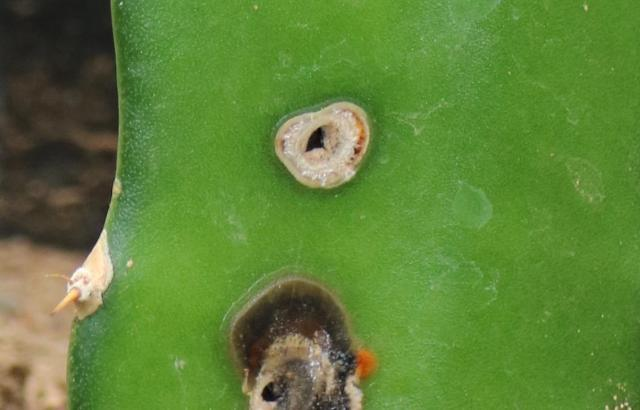stemcanker: (223, 271, 376, 410), (266, 97, 381, 196)
